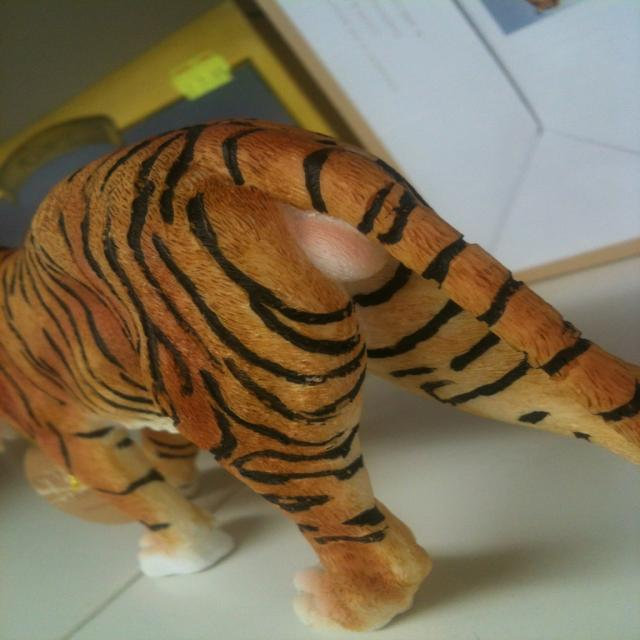Tiger: (0, 110, 639, 631)
